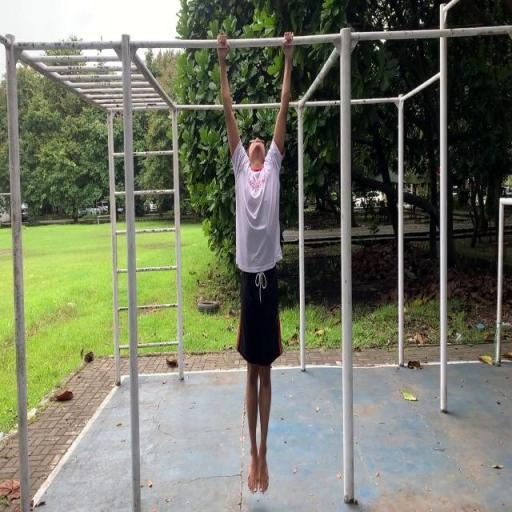Normal_BrenchPress: (215, 29, 296, 494)
